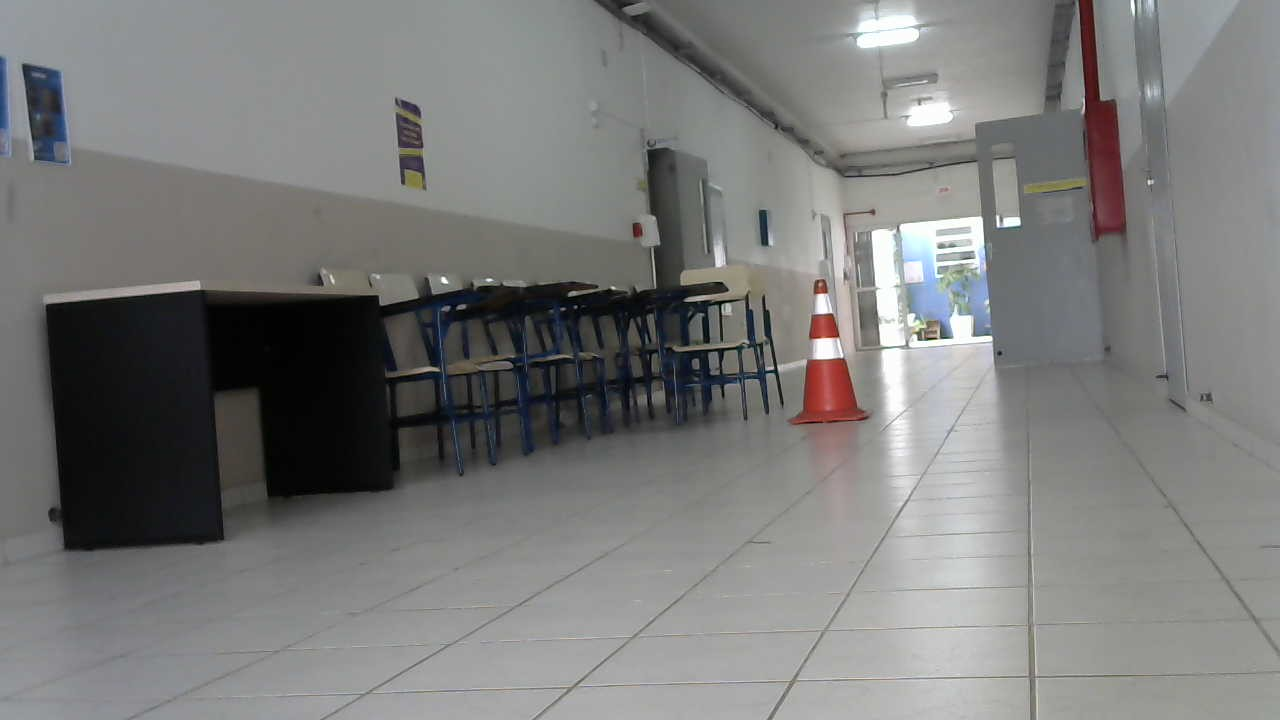cone: (786, 280, 870, 428)
